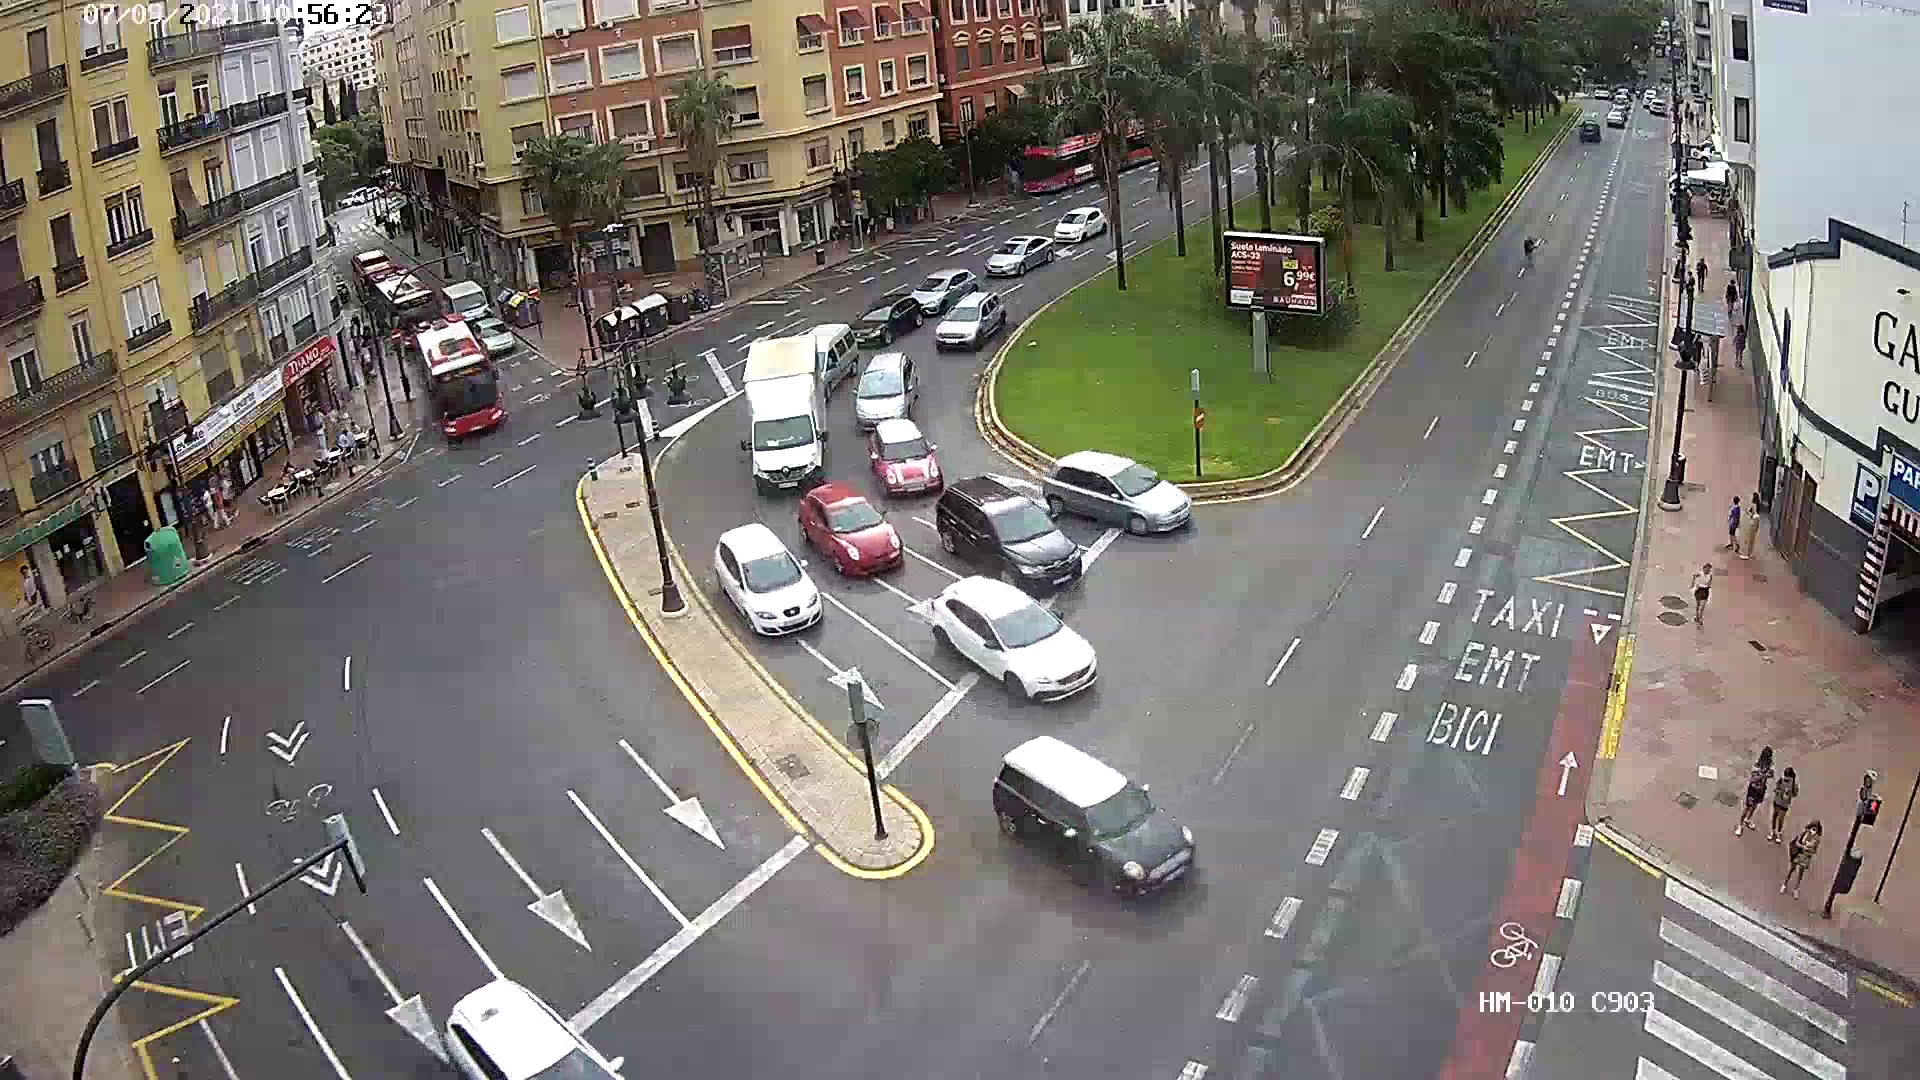Cars: (982, 757, 1228, 906), (909, 593, 1139, 699), (943, 479, 1079, 583), (1026, 451, 1193, 530), (698, 531, 825, 632), (787, 495, 905, 584), (858, 433, 947, 493), (858, 352, 920, 429), (975, 235, 1058, 276), (940, 301, 1007, 349), (1062, 210, 1118, 252), (477, 323, 516, 357)
